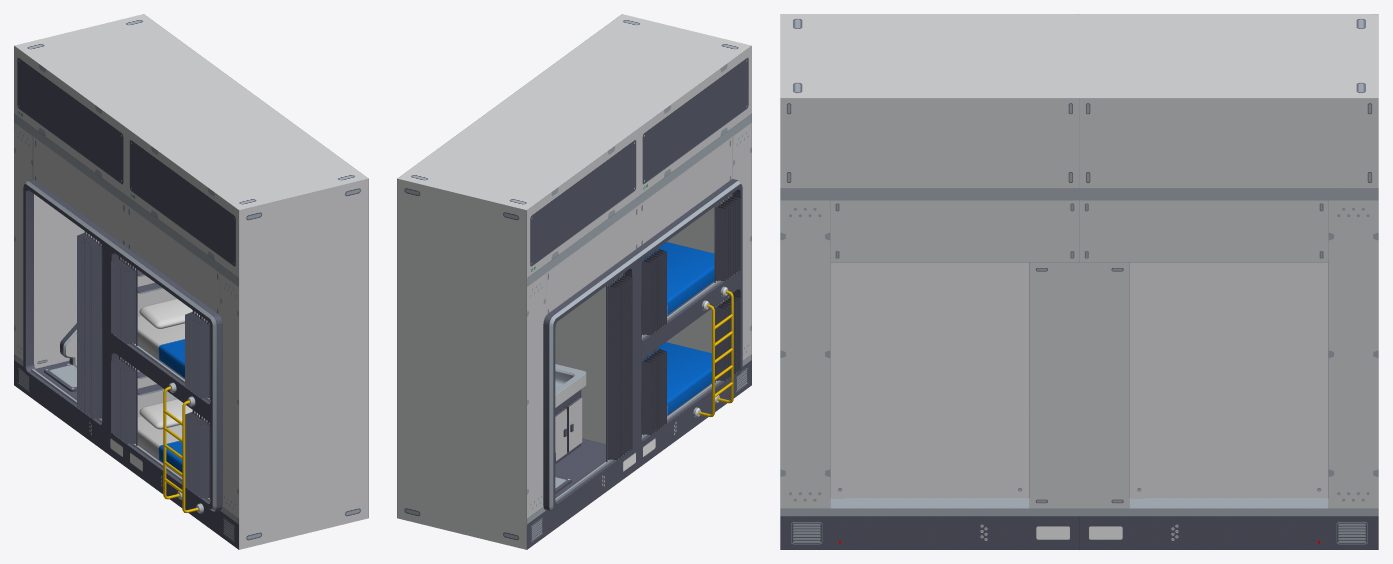
Rendered from Wall_Bed_Double_01_B.FBX.
3 views of the same model, side by side, from view 1: azimuth 30°, elevation 25°; view 2: azimuth 150°, elevation 25°; view 3: azimuth 270°, elevation 25° (orthographic). The views are drawn at different scales.
Parts seen in each view (by area): view 1: Wall_Bed_Double_01_B, Bed_B, Bed_A, WC_01; view 2: Wall_Bed_Double_01_B, Bed_B, Bed_A, Bassin, Door_Right, Door_Left; view 3: Wall_Bed_Double_01_B.
Boxes of the visible parts, left/top/right/bottom form: Wall_Bed_Double_01_B: left=14, top=14, right=368, bottom=549; Bed_B: left=137, top=298, right=209, bottom=377; Bed_A: left=137, top=399, right=209, bottom=472; WC_01: left=44, top=323, right=76, bottom=391; Wall_Bed_Double_01_B: left=397, top=14, right=751, bottom=549; Bed_B: left=642, top=242, right=714, bottom=314; Bed_A: left=642, top=342, right=711, bottom=415; Bassin: left=555, top=364, right=586, bottom=464; Door_Right: left=567, top=396, right=582, bottom=451; Door_Left: left=555, top=408, right=566, bottom=461; Wall_Bed_Double_01_B: left=780, top=14, right=1378, bottom=549.
Bounding box in the file's own units: 2.3 × 5 × 6.
